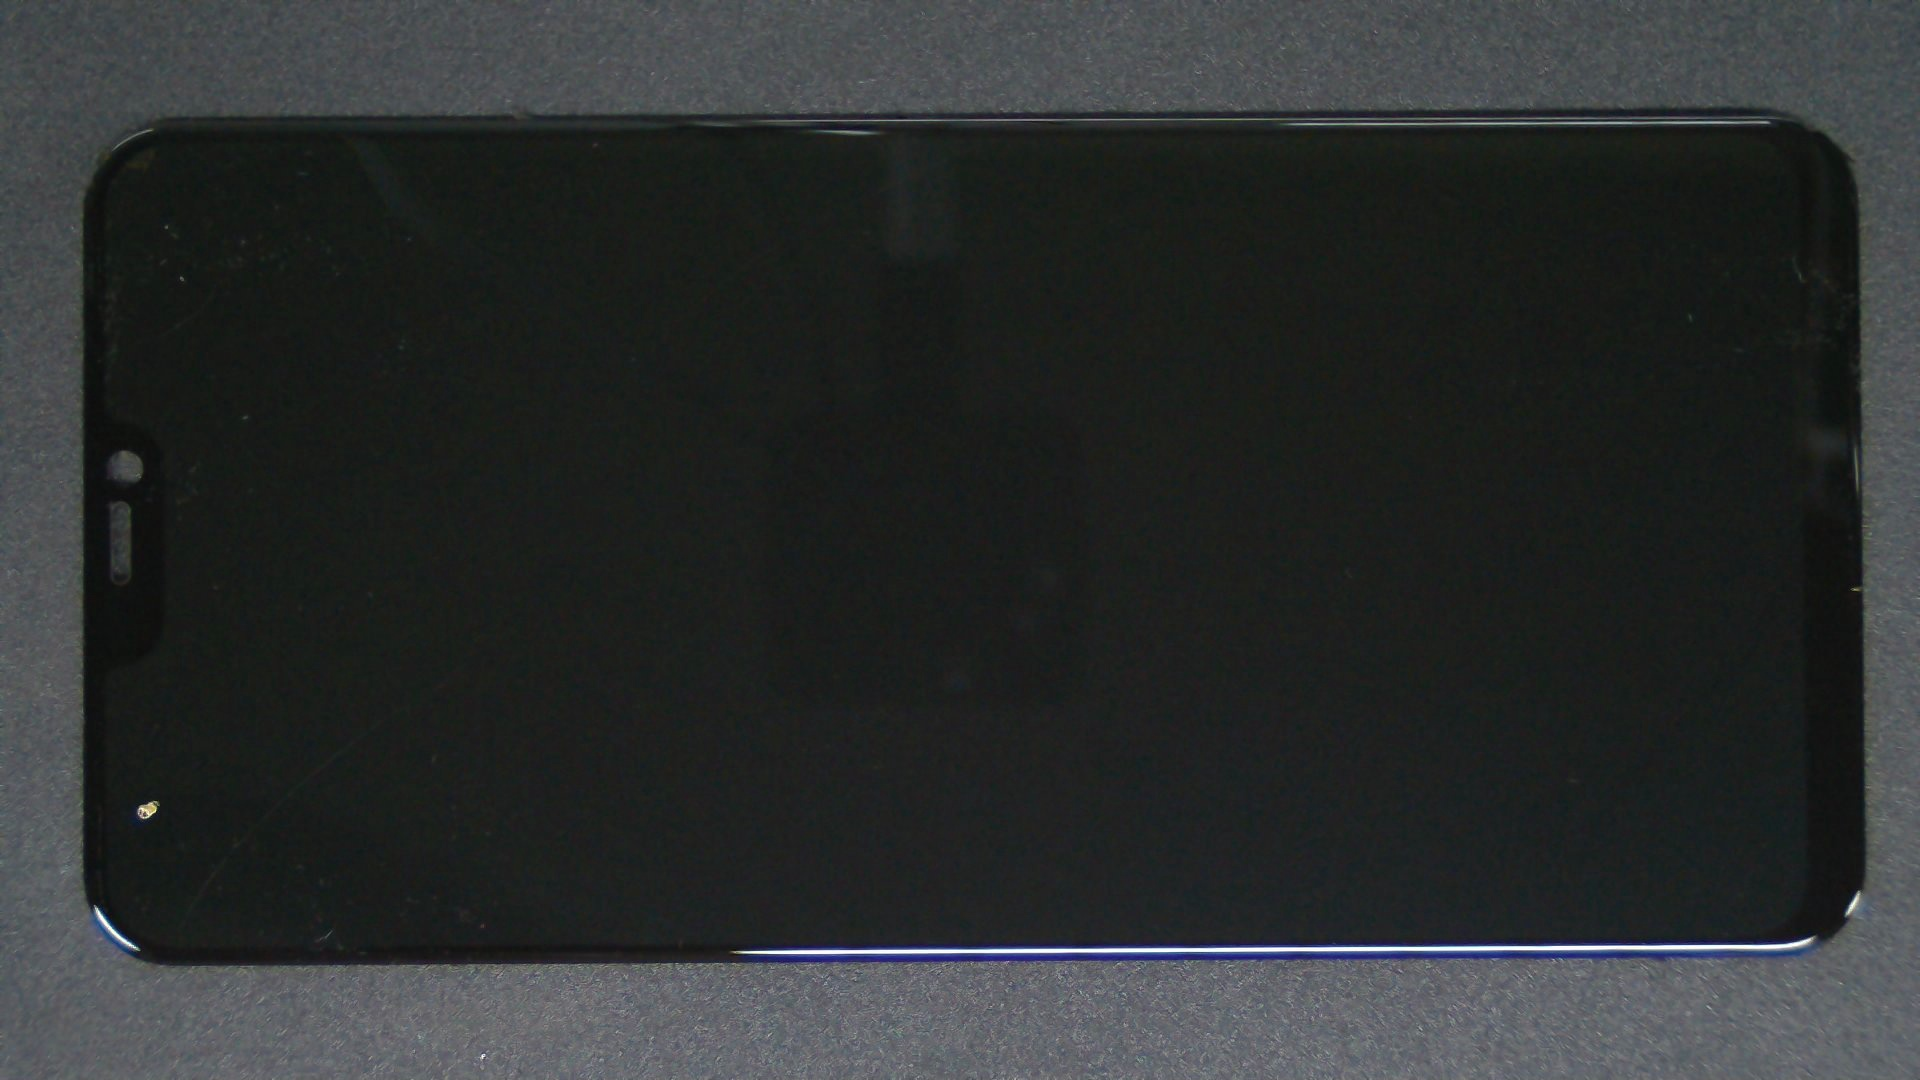oil: (76, 397, 222, 1080)
